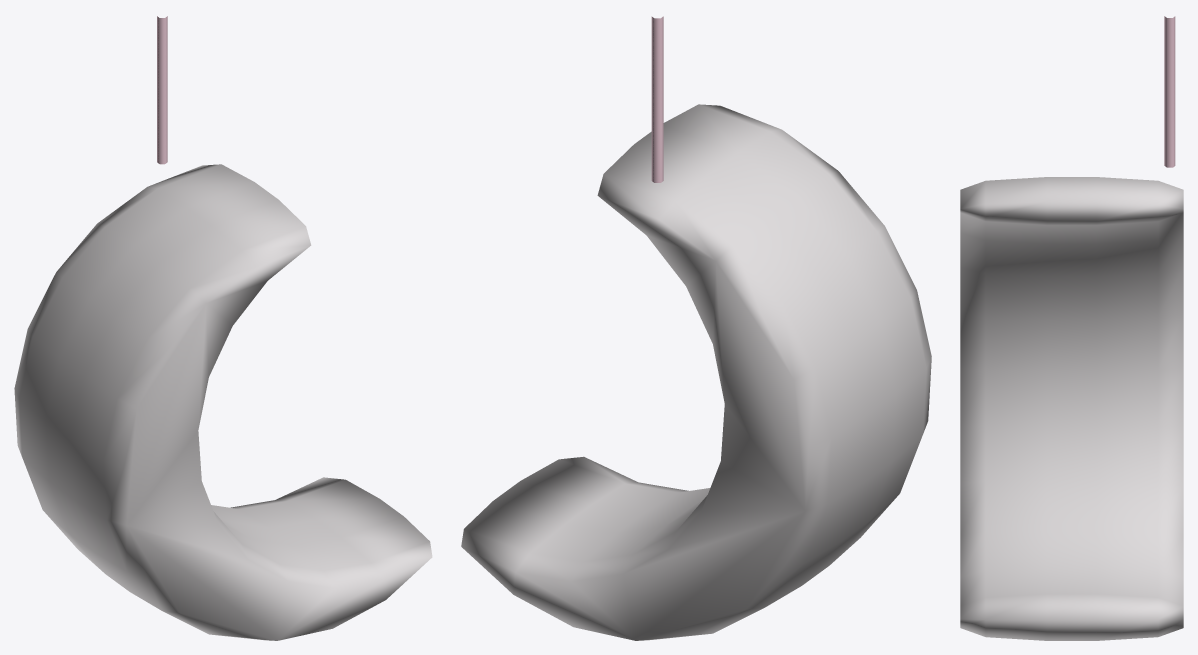
The model's file is decor_2_candy.glb.
The picture shows the model from 3 angles, left to right: view 1: azimuth 30°, elevation 25°; view 2: azimuth 150°, elevation 25°; view 3: azimuth 270°, elevation 25°; orthographic projection. The views are drawn at different scales.
Parts seen in each view (by area): view 1: decor_2_candy; view 2: decor_2_candy; view 3: decor_2_candy.
Boxes of the visible parts, left/top/right/bottom form: decor_2_candy: left=14, top=16, right=432, bottom=640; decor_2_candy: left=461, top=16, right=931, bottom=640; decor_2_candy: left=960, top=16, right=1183, bottom=640.
Size of the model in its own units: 7.17 by 11.6 by 4.06.
